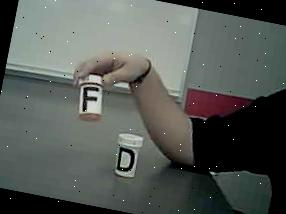Bottle D: (109, 129, 148, 186)
Bottle F: (68, 71, 111, 123)
